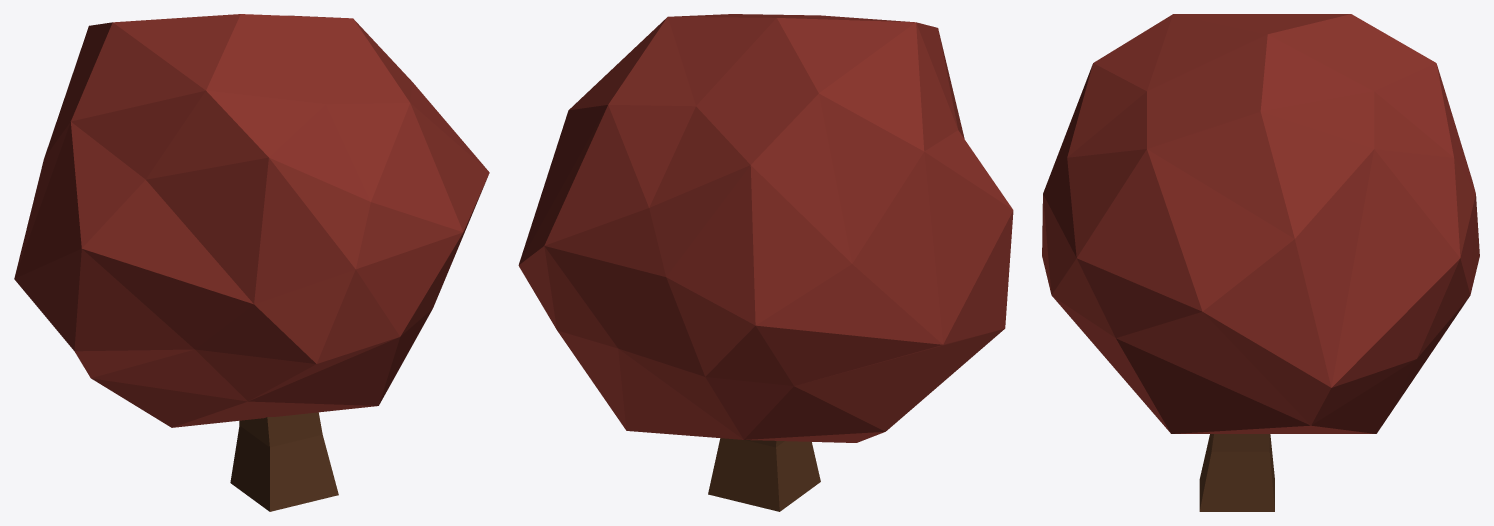
The model's file is Tree_31_Red.fbx.
3 views of the same model, side by side, from view 1: azimuth 30°, elevation 25°; view 2: azimuth 150°, elevation 25°; view 3: azimuth 270°, elevation 25° (orthographic). The views are drawn at different scales.
Visible parts, largest first — view 1: Tree_31_Red_Part_1, Tree_31_Red_Part_2; view 2: Tree_31_Red_Part_1, Tree_31_Red_Part_2; view 3: Tree_31_Red_Part_1, Tree_31_Red_Part_2.
Boxes of the visible parts, bbox=[...] form: Tree_31_Red_Part_1: bbox=[14, 14, 489, 427]; Tree_31_Red_Part_2: bbox=[230, 412, 338, 511]; Tree_31_Red_Part_1: bbox=[518, 14, 1013, 442]; Tree_31_Red_Part_2: bbox=[708, 438, 820, 511]; Tree_31_Red_Part_1: bbox=[1042, 14, 1479, 433]; Tree_31_Red_Part_2: bbox=[1199, 434, 1274, 511].
Size of the model in its own units: 732 by 807 by 713.
